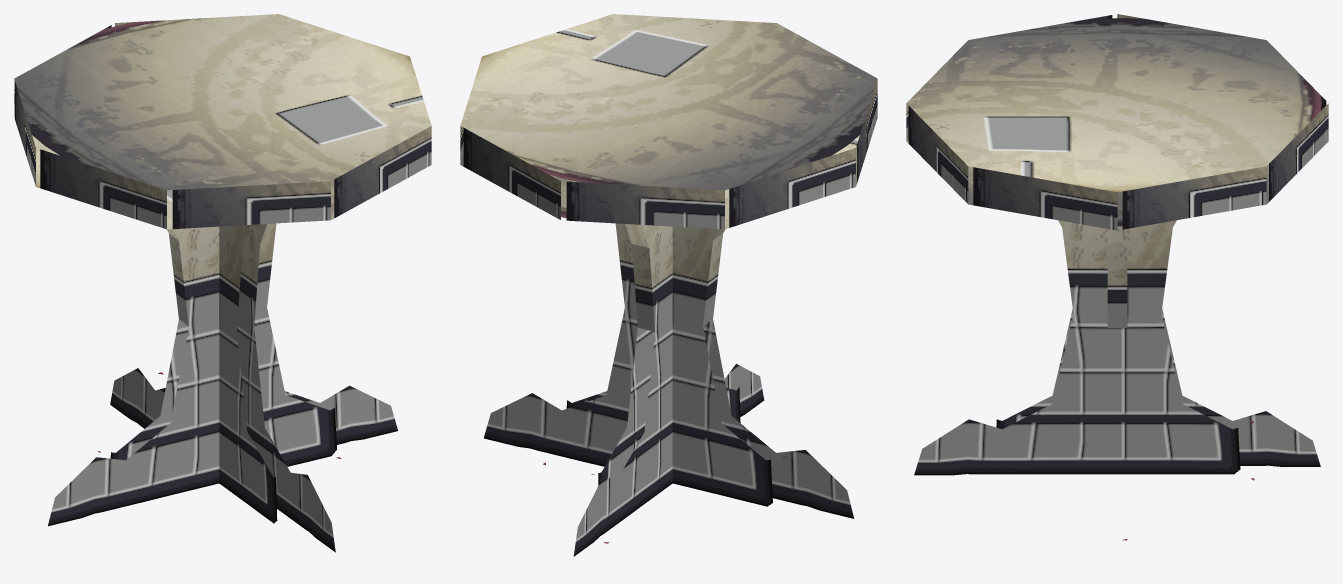
File: research_station.obj
3 renders of one model, left to right at view 1: azimuth 30°, elevation 25°; view 2: azimuth 150°, elevation 25°; view 3: azimuth 270°, elevation 25°, orthographic. The views are drawn at different scales.
Parts seen in each view (by area): view 1: table_Table_Top; view 2: table_Table_Top; view 3: table_Table_Top.
Part boxes in pixels (bbox=[...]): table_Table_Top: bbox=[14, 14, 431, 552]; table_Table_Top: bbox=[460, 14, 877, 556]; table_Table_Top: bbox=[906, 14, 1328, 540].
Size of the model in its own units: 1 by 0.9915 by 1.
